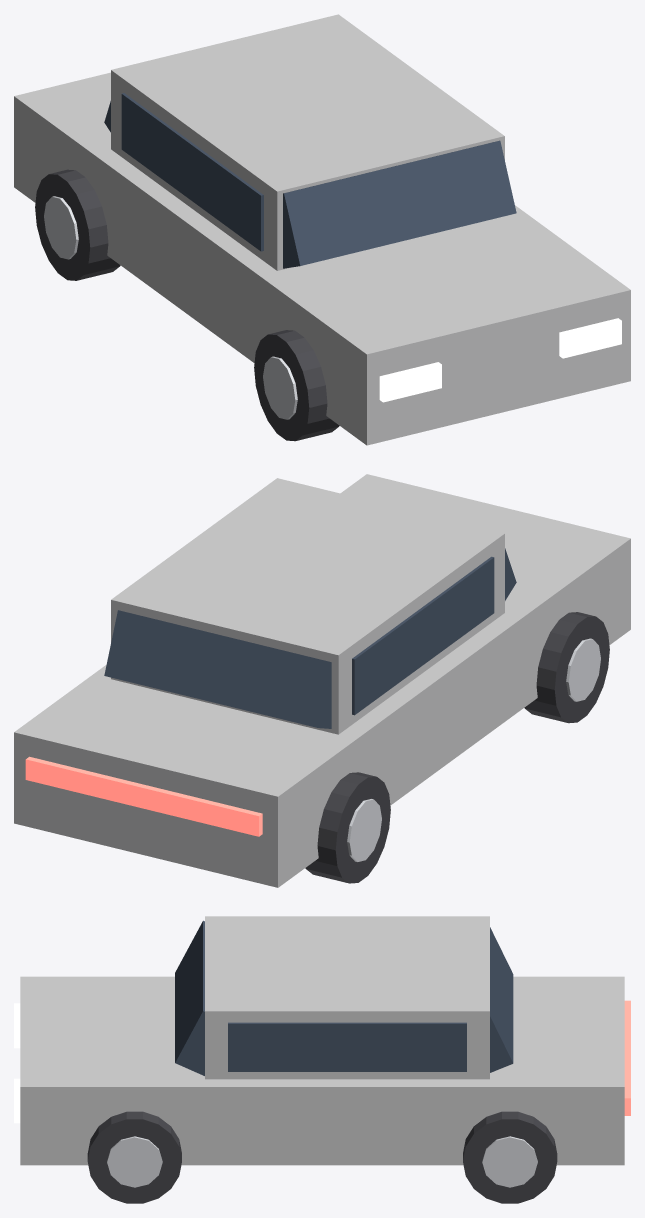
Rendered from ai_sedan.glb.
The picture shows the model from 3 angles, top to bottom: view 1: azimuth 30°, elevation 25°; view 2: azimuth 150°, elevation 25°; view 3: azimuth 270°, elevation 25°; orthographic projection. The views are drawn at different scales.
Visible parts, largest first — view 1: Chassis, Cabin, Windsh, SideWin, Tire_-0.94_1.35, Tire_-0.94_-1.35, HeadL, HeadR, Rim_-0.94_-1.35, Rim_-0.94_1.35; view 2: Chassis, Cabin, RearWin, SideWin, TailBar, Tire_-0.94_1.35, Tire_-0.94_-1.35, Rim_-0.94_-1.35, Rim_-0.94_1.35; view 3: Chassis, Cabin, SideWin, Tire_0.94_1.35, Tire_0.94_-1.35, Windsh, RearWin, Rim_0.94_1.35, Rim_0.94_-1.35, TailBar.
Boxes of the visible parts, x1,y1,x2,y2 form: Chassis: (14, 72, 630, 445); Cabin: (111, 14, 504, 270); Windsh: (283, 140, 516, 268); SideWin: (121, 93, 263, 251); Tire_-0.94_1.35: (35, 169, 120, 280); Tire_-0.94_-1.35: (254, 330, 339, 441); HeadL: (379, 362, 441, 402); HeadR: (559, 318, 621, 358); Rim_-0.94_-1.35: (263, 356, 297, 419); Rim_-0.94_1.35: (44, 196, 78, 259); Chassis: (14, 474, 630, 887); Cabin: (111, 478, 504, 734); RearWin: (104, 610, 331, 728); SideWin: (352, 556, 494, 715); TailBar: (25, 756, 262, 836); Tire_-0.94_1.35: (305, 772, 390, 883); Tire_-0.94_-1.35: (524, 612, 609, 723); Rim_-0.94_-1.35: (566, 638, 600, 701); Rim_-0.94_1.35: (347, 799, 381, 861); Chassis: (20, 976, 624, 1165); Cabin: (205, 916, 489, 1079); SideWin: (228, 1022, 466, 1071); Tire_0.94_1.35: (463, 1111, 557, 1203); Tire_0.94_-1.35: (87, 1111, 181, 1203); Windsh: (175, 920, 204, 1075); RearWin: (490, 927, 513, 1072); Rim_0.94_1.35: (482, 1136, 537, 1187); Rim_0.94_-1.35: (107, 1136, 162, 1187); TailBar: (624, 1000, 630, 1115).
Size of the model in its own units: 2.18 by 1.4 by 4.44.
